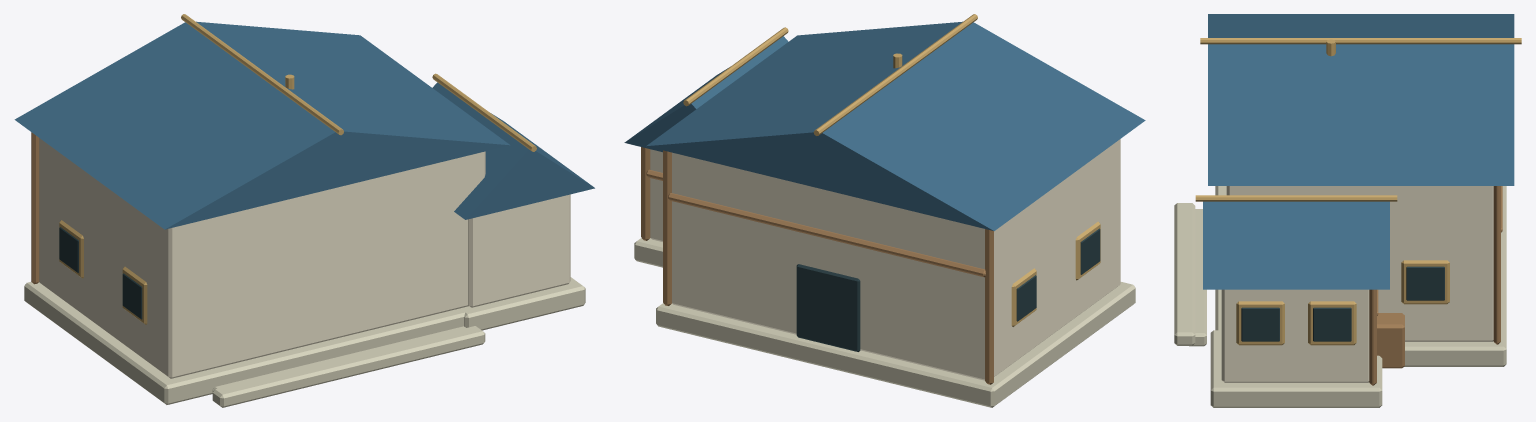
The model's file is level_18.glb.
3 renders of one model, left to right at view 1: azimuth 30°, elevation 25°; view 2: azimuth 150°, elevation 25°; view 3: azimuth 270°, elevation 25°, orthographic.
Visible parts, largest first — view 1: warehouse — level 18; view 2: warehouse — level 18; view 3: warehouse — level 18.
Boxes of the visible parts, x1,y1,x2,y2 form: warehouse — level 18: (14, 14, 594, 407); warehouse — level 18: (624, 14, 1145, 407); warehouse — level 18: (1174, 14, 1521, 407).
Size of the model in its own units: 6.75 by 3.68 by 4.65.
